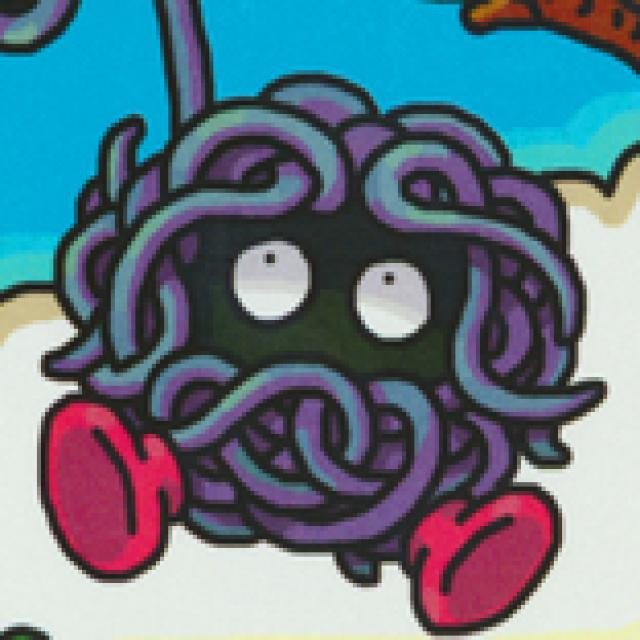Tangela: (41, 74, 568, 607)
